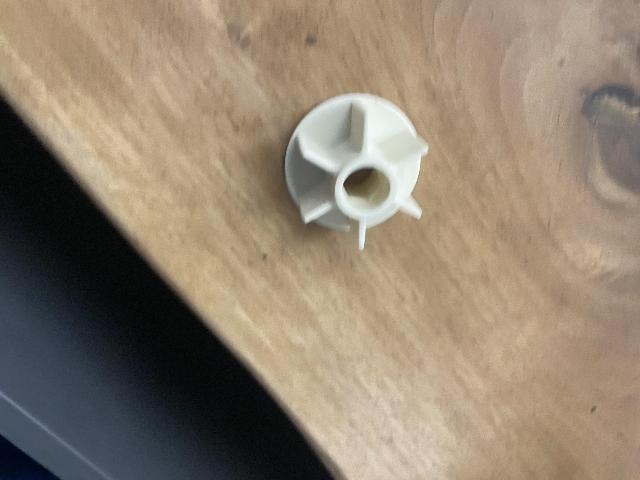Plastik: (290, 95, 427, 235)
